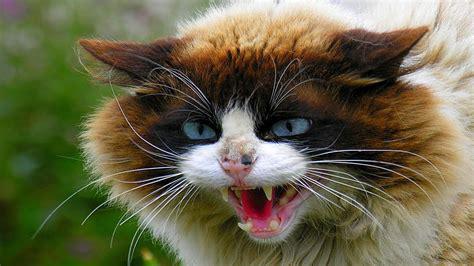cat: (78, 1, 474, 266)
